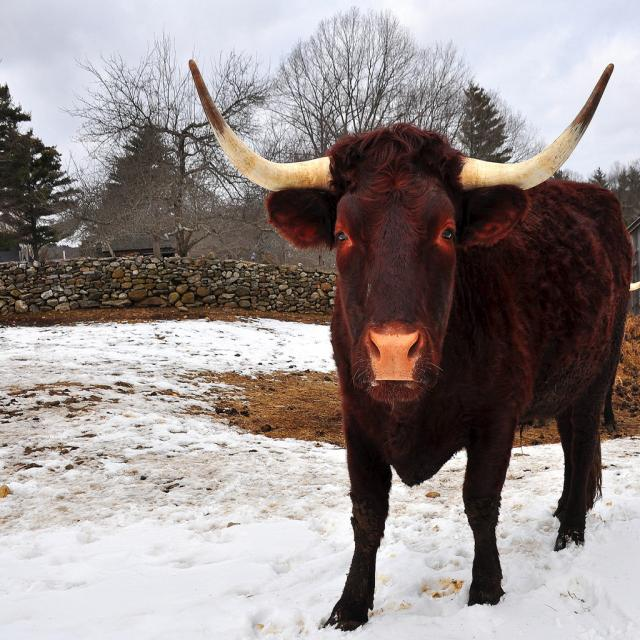Cattle: (189, 59, 633, 632)
